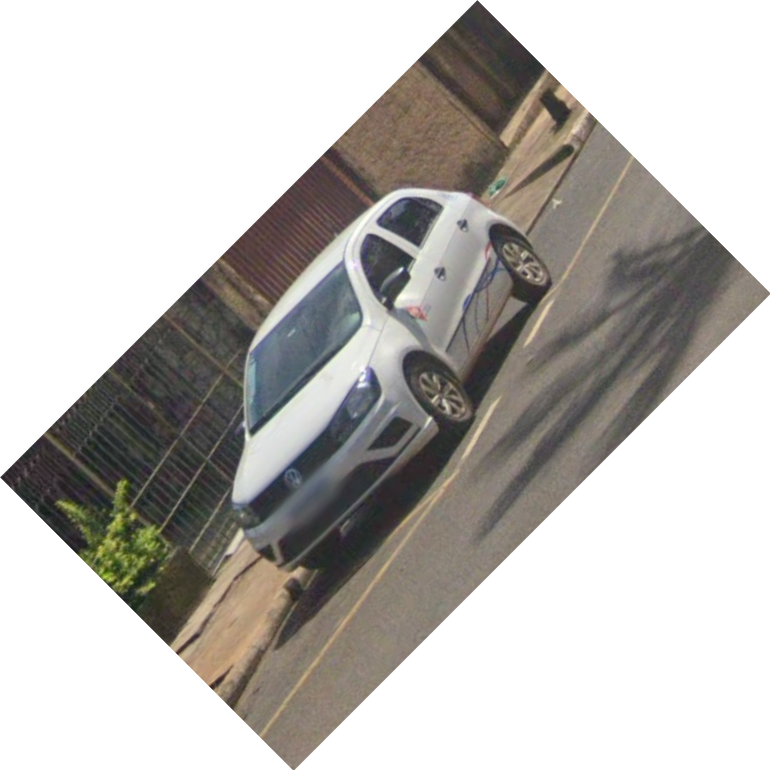car: (235, 188, 552, 579)
